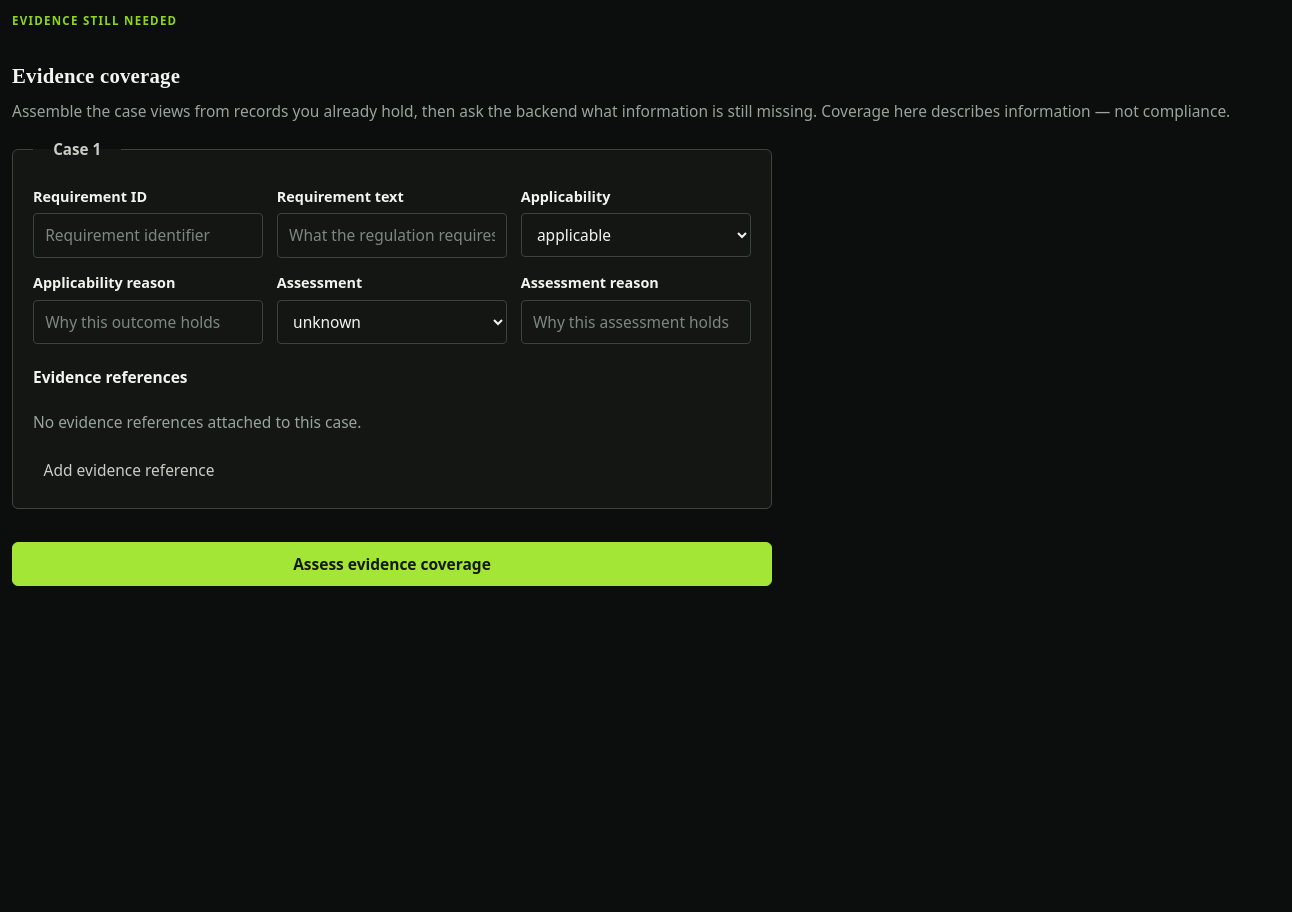
Test case: GapsPage › passes cases through without frontend calculation
The width and height of the screenshot is (1292, 912).
Type "req-9" into the field labelled "Requirement ID" at [148, 236], box top-left (33, 213), bottom-right (263, 258)
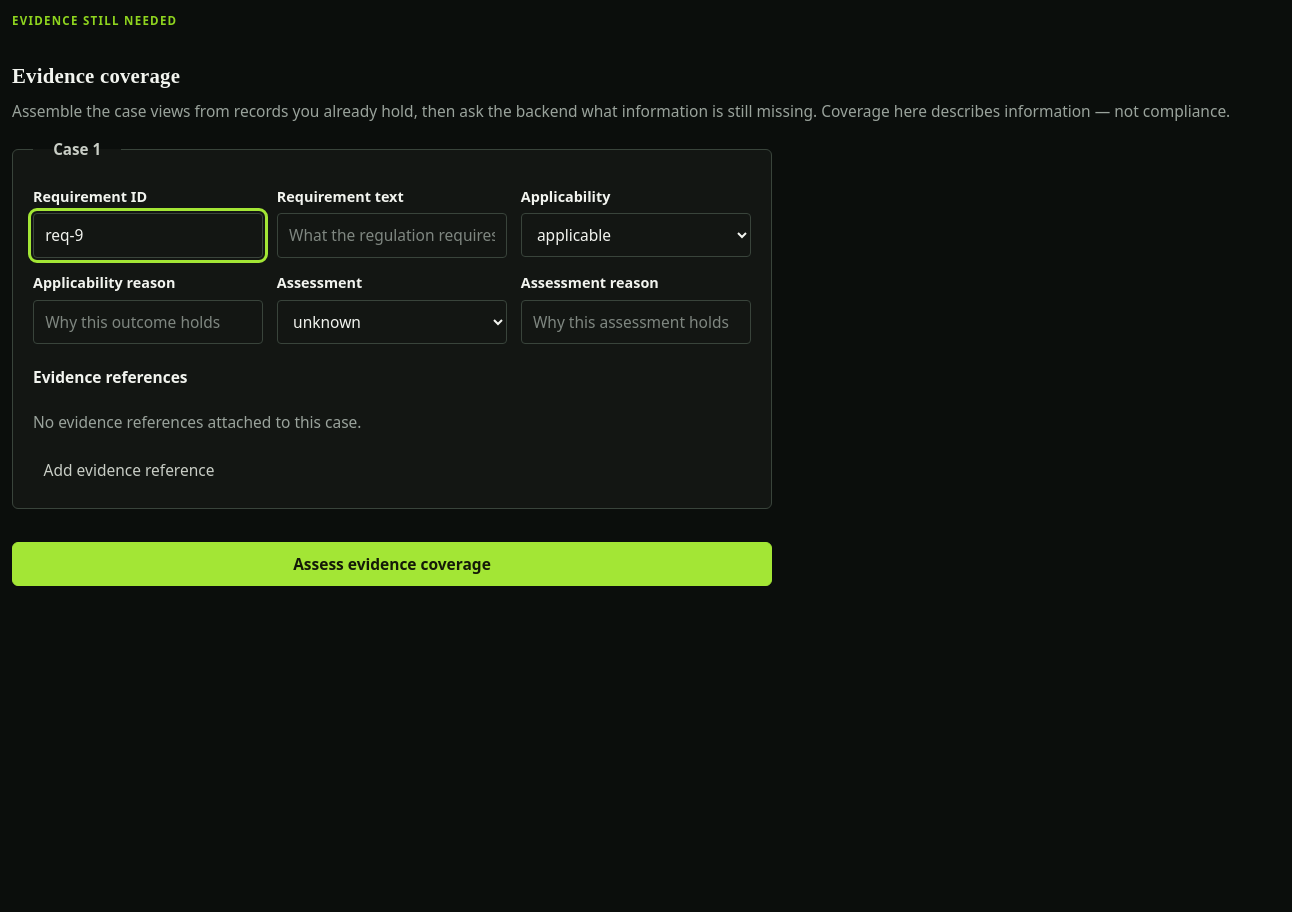
Type "Label goods." into the field labelled "Requirement text" at [392, 236], box top-left (277, 213), bottom-right (507, 258)
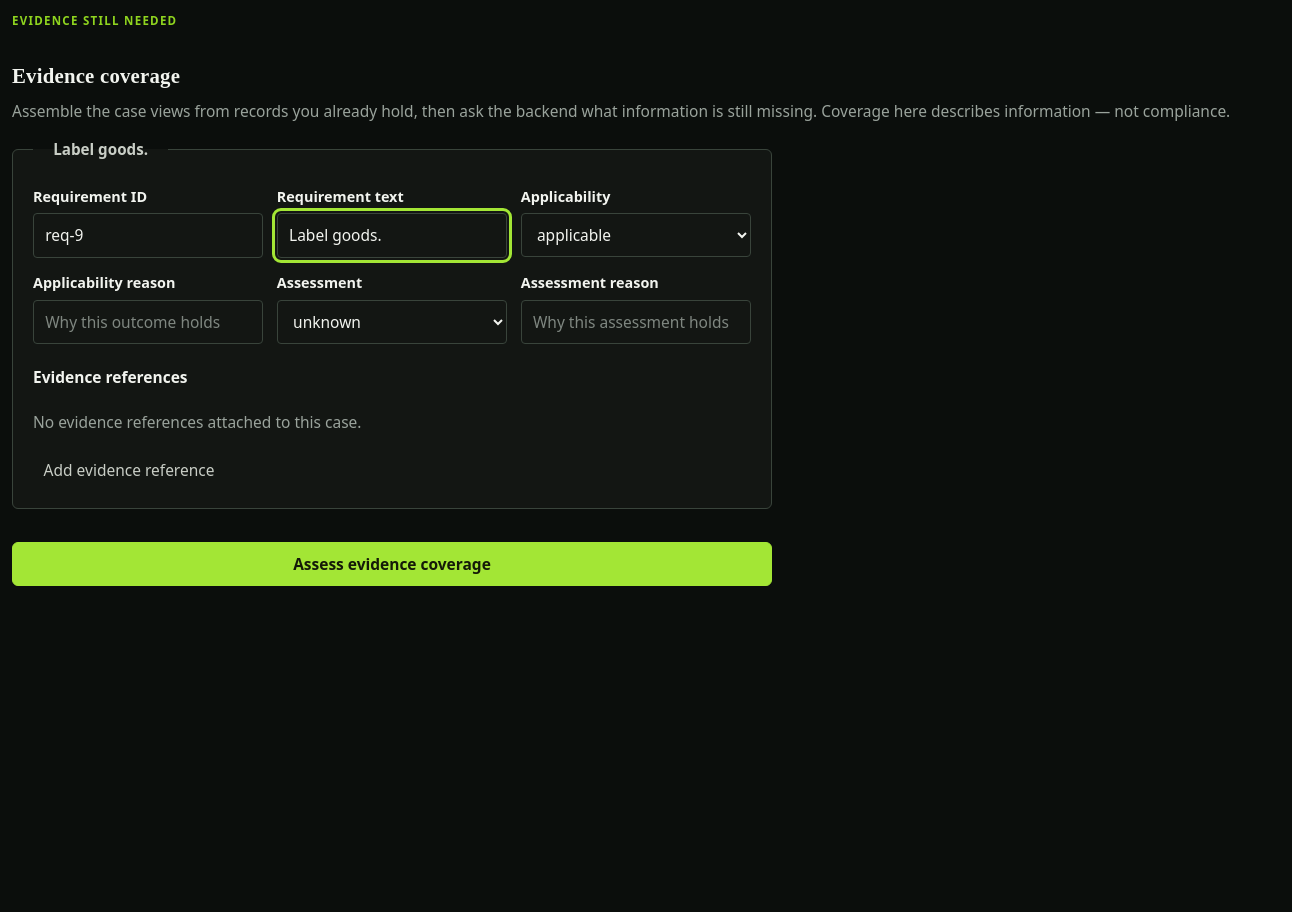
Click the button "Assess evidence coverage" at [392, 564], box top-left (12, 542), bottom-right (772, 586)
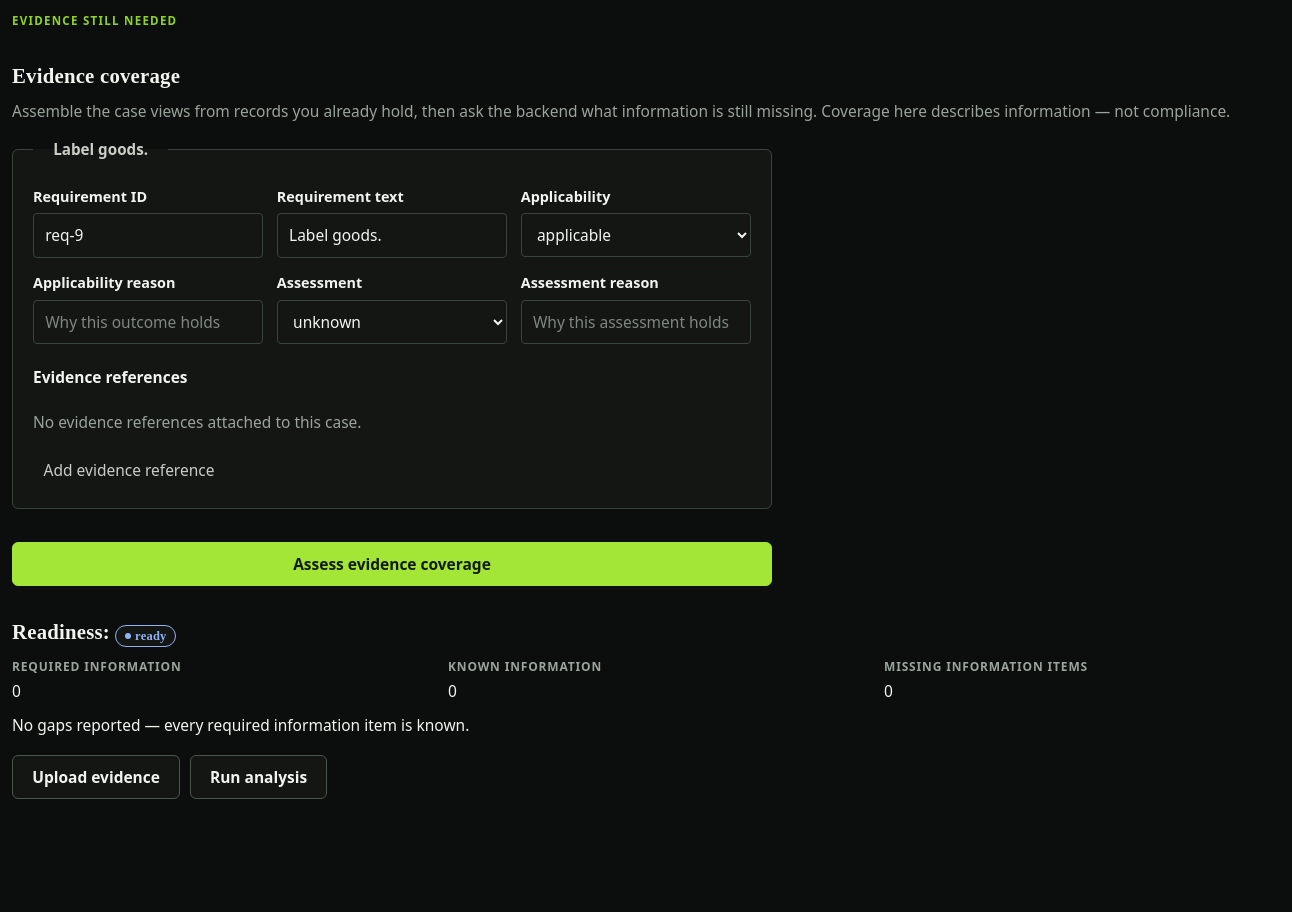
Now the text "ready" is shown, box top-left (115, 625), bottom-right (176, 647)
